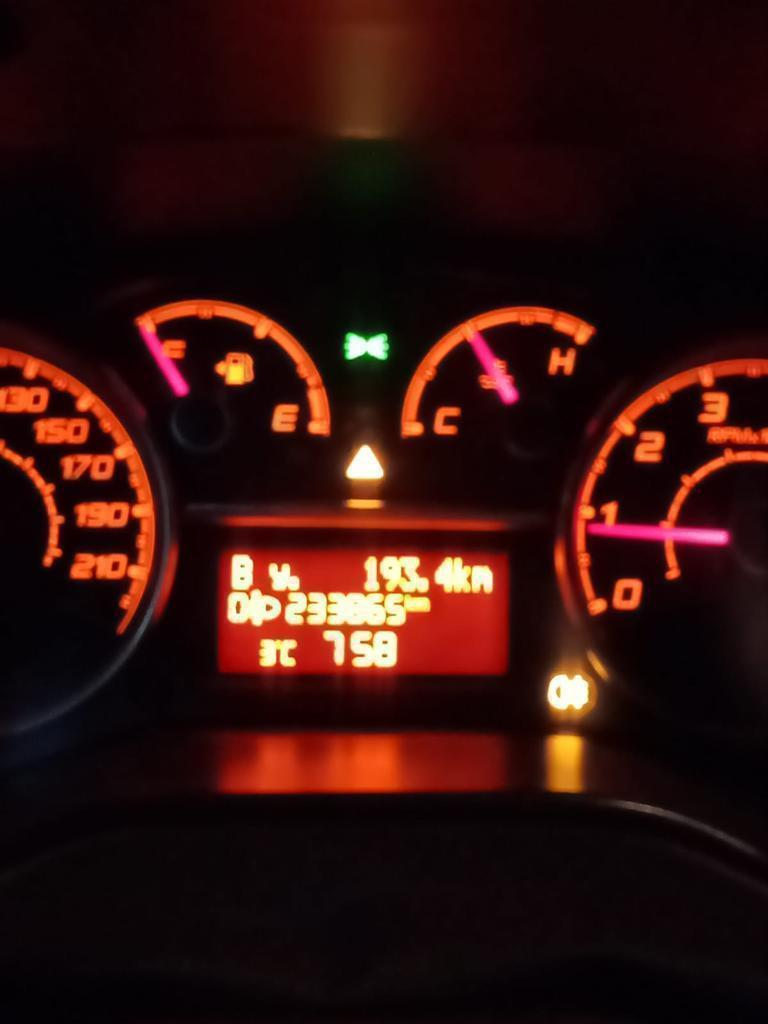,: (417, 575, 429, 592), (289, 574, 300, 592)
0: (225, 591, 248, 624)
1: (361, 555, 379, 592)
2: (283, 591, 306, 626)
3: (326, 590, 345, 626), (400, 554, 417, 592), (307, 591, 326, 625), (258, 638, 276, 668)
4: (433, 555, 454, 593)
5: (349, 629, 372, 669), (385, 592, 404, 626)
6: (364, 592, 385, 626)
7: (320, 627, 345, 667)
8: (373, 629, 397, 668), (345, 592, 364, 626)
9: (378, 554, 399, 592)
X: (228, 552, 253, 590), (265, 560, 288, 592), (454, 554, 471, 594), (471, 564, 493, 594), (281, 637, 296, 667), (414, 596, 431, 613), (404, 592, 413, 613)
odometer: (206, 539, 517, 682)
